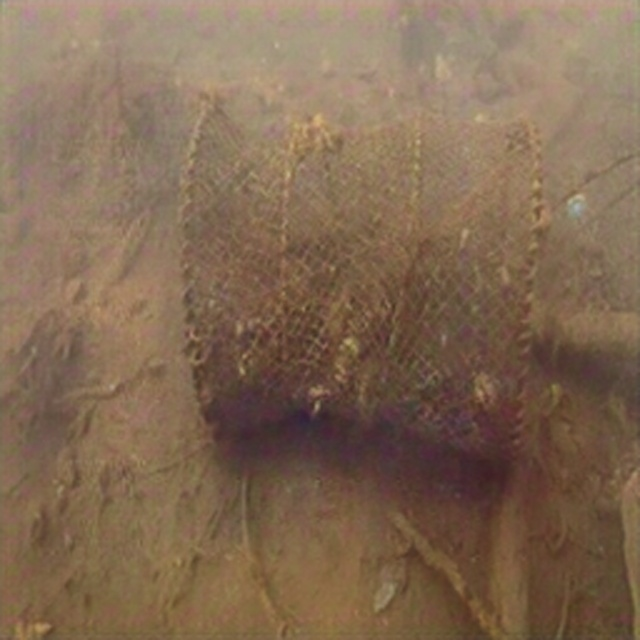mine: (177, 98, 542, 473)
